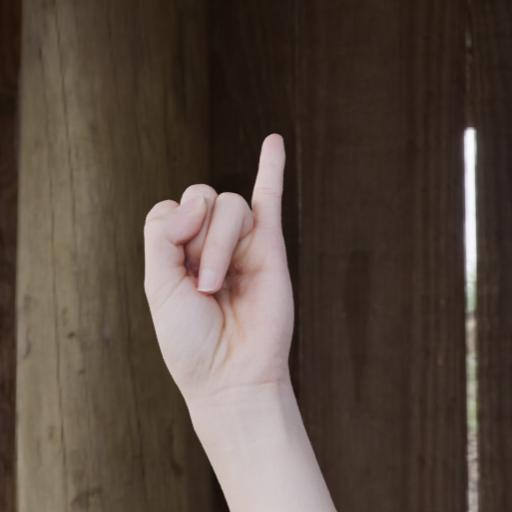I: (114, 110, 338, 492)
